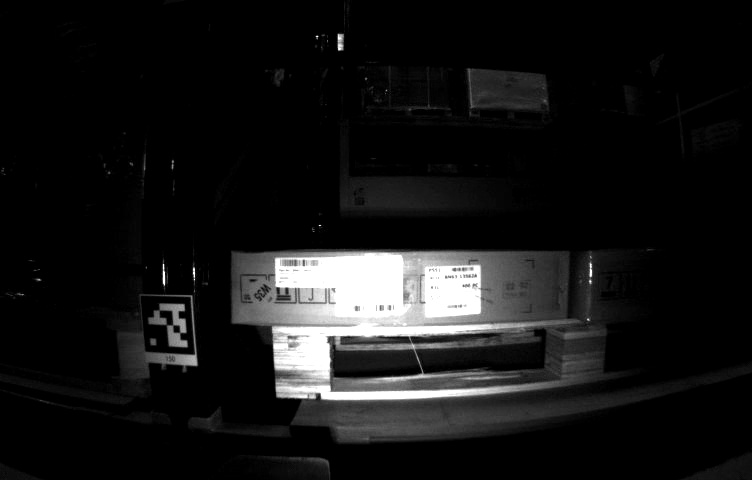True Barcode: (423, 267, 477, 315)
